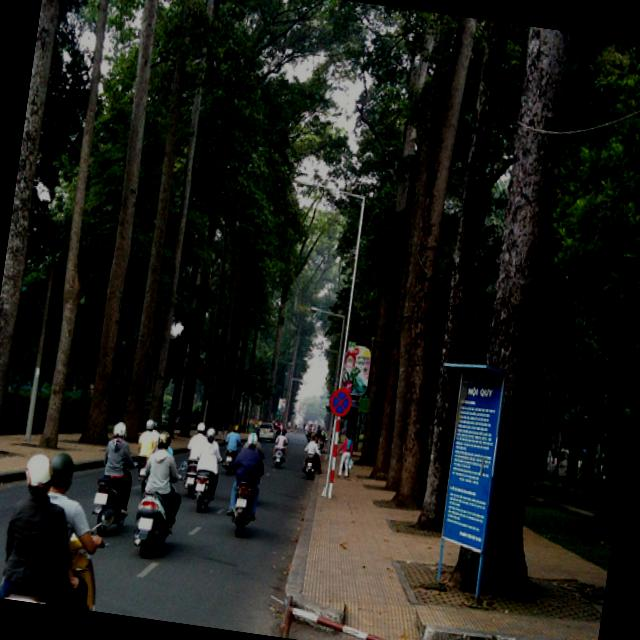Vehicle: (132, 491, 174, 561), (90, 474, 130, 539), (224, 480, 259, 540), (190, 468, 216, 514), (182, 460, 198, 500), (256, 422, 278, 444), (222, 448, 238, 476), (303, 454, 317, 479)
